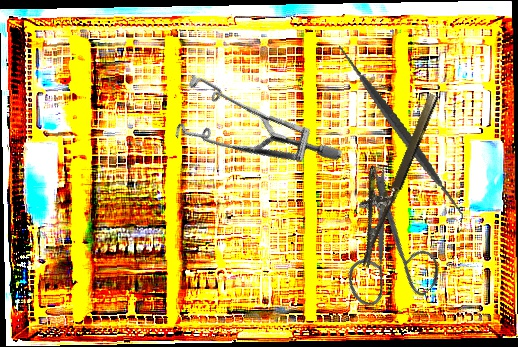Iris Scissors: (298, 158, 472, 333)
Needle Holder: (334, 83, 441, 268)
Spatula Surgical: (303, 35, 499, 227)
Speculum: (152, 32, 345, 230)
